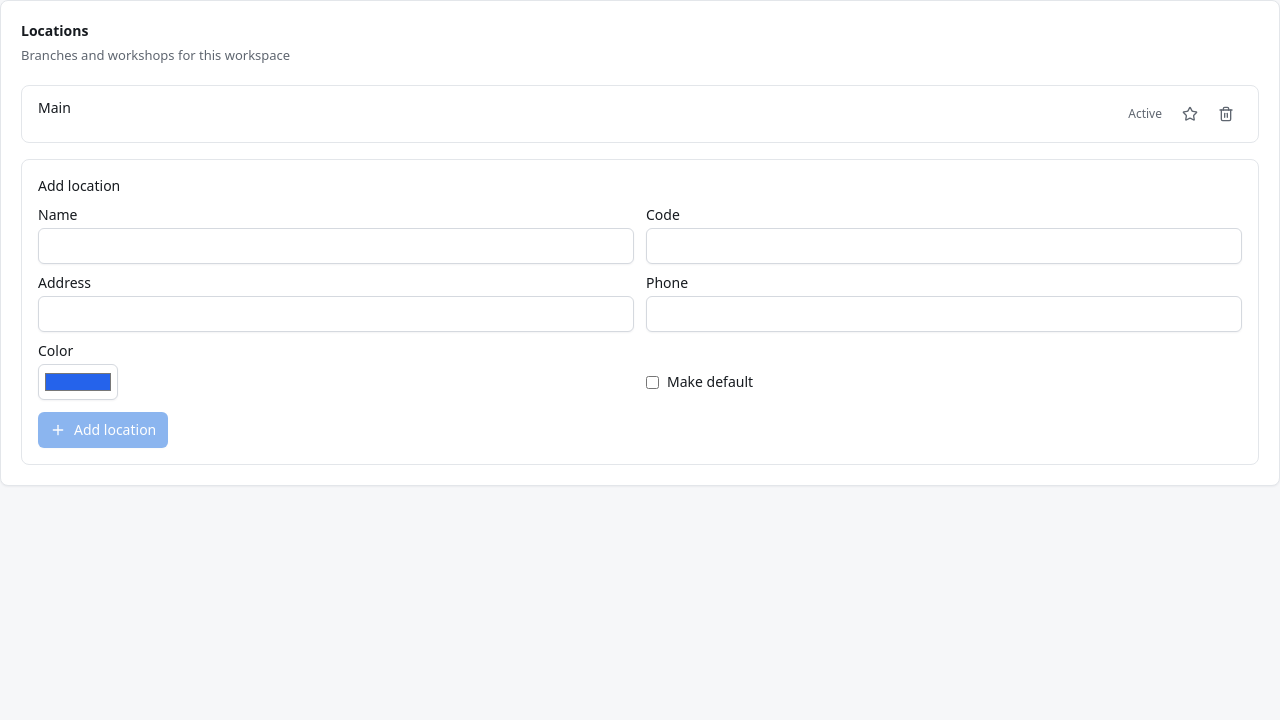
LocationsSettings delete confirm › asks via the custom dialog and deletes only after confirm
Later steps or results of the test are not shown.
What coordinates should you click on to do the following:
click the button named "Delete location"
I would click on:
 (1226, 114)
Its box is [1210,98,1242,130].
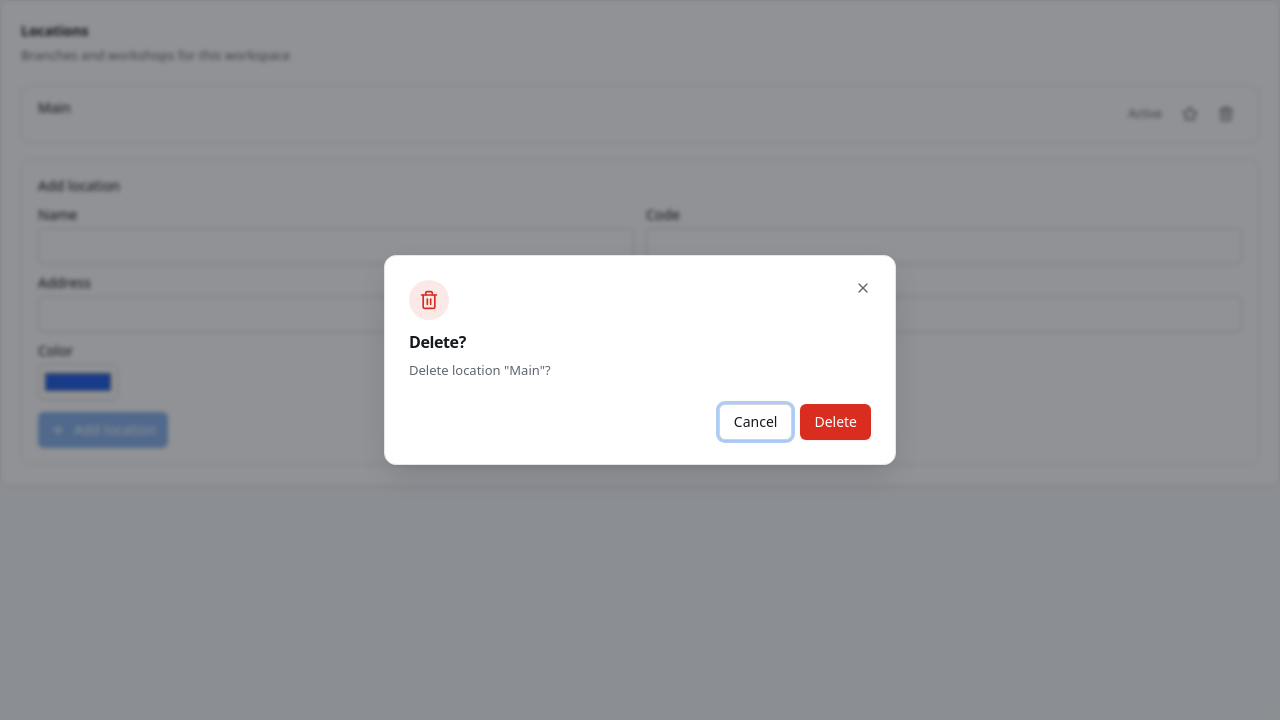
Check: the text "Delete location \"Main\"?" is shown, box [409,361,551,379]
What coordinates should you click on to do the following:
click the button "Cancel"
I would click on:
 (756, 422)
Its box is [719,404,792,440].
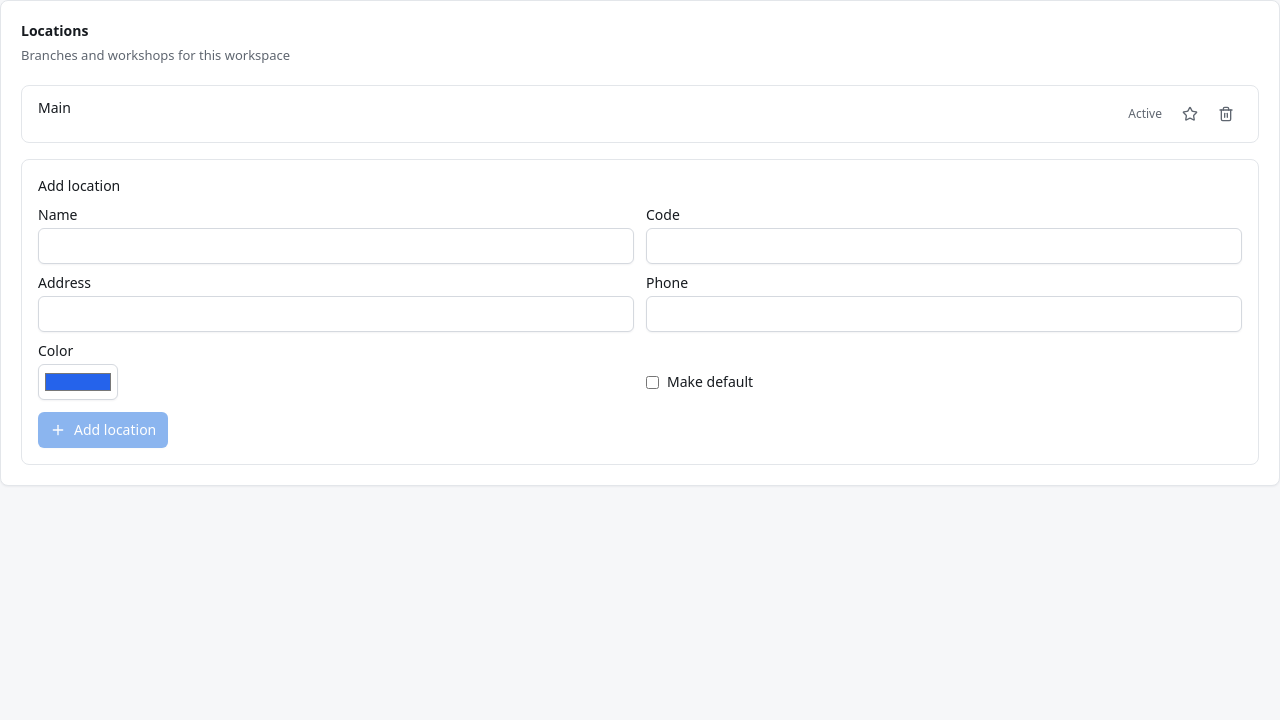
Check: the dialog is gone
What coordinates should you click on to do the following:
click the button named "Delete location"
I would click on:
 (1226, 114)
Its box is [1210,98,1242,130].
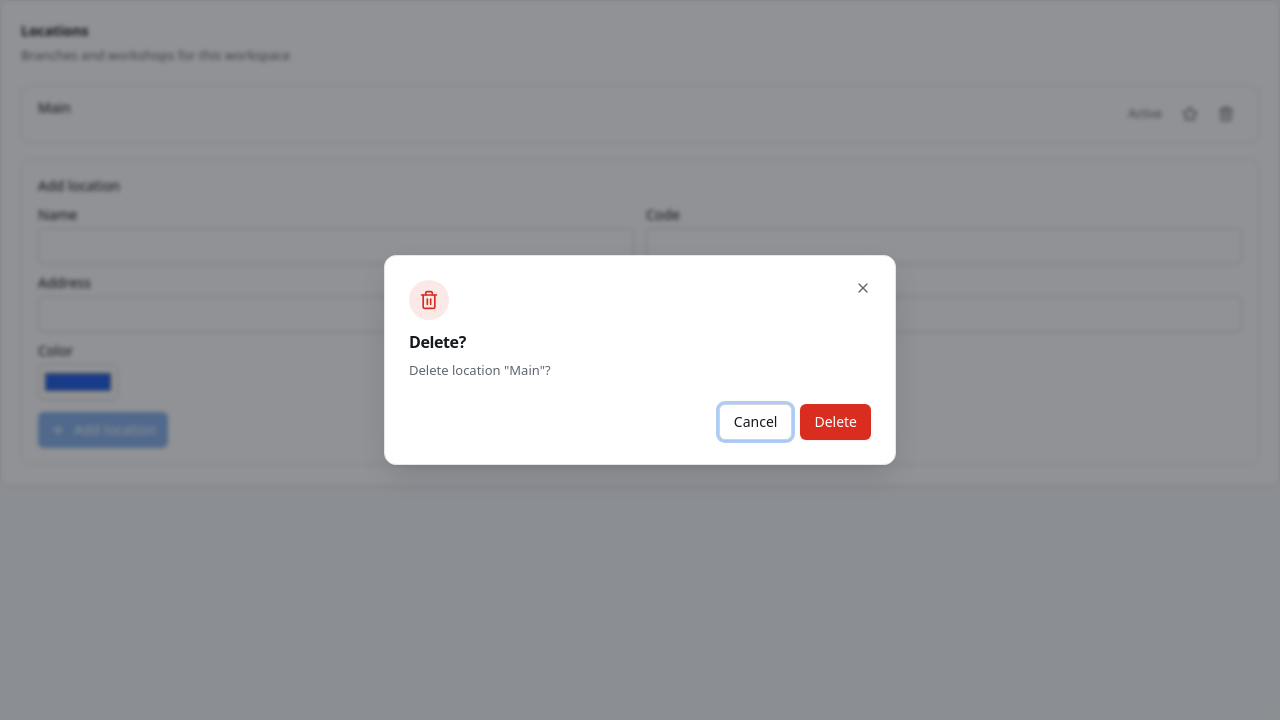
Check: the dialog is shown, box [384,255,896,465]
